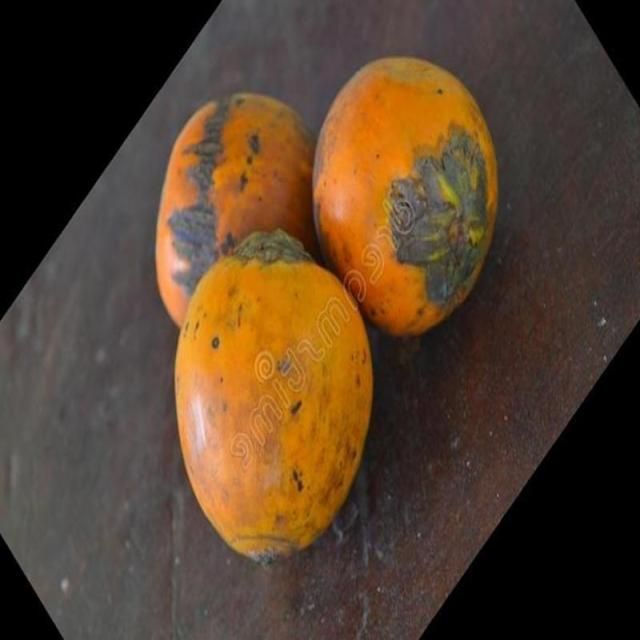good: (174, 232, 374, 558), (312, 58, 500, 338)
